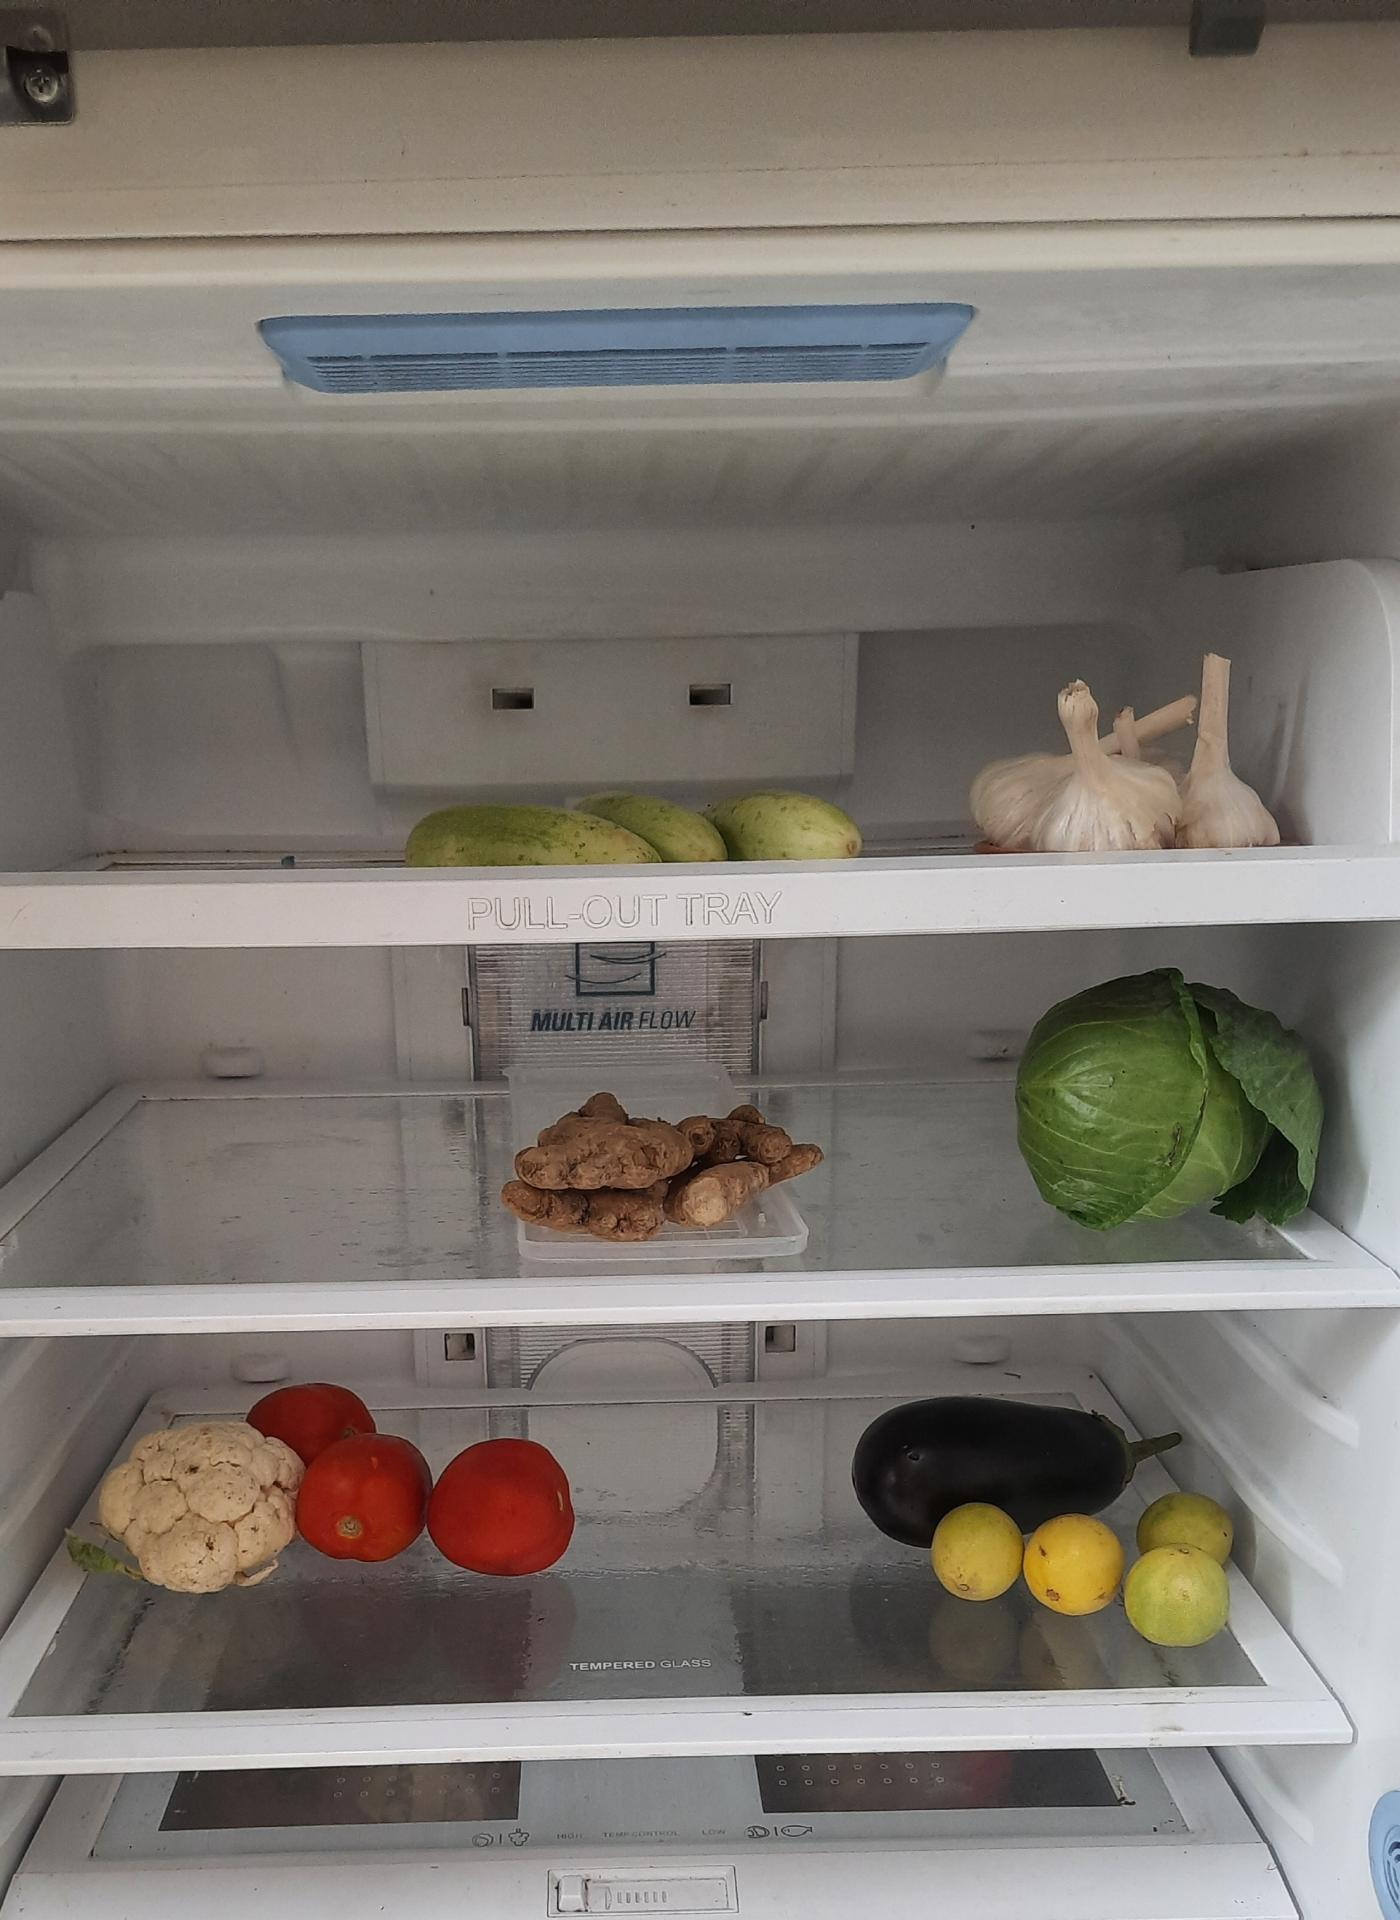brinjal: (851, 1380, 1193, 1556)
cabbage: (1021, 972, 1333, 1237)
cauliflower: (89, 1419, 298, 1589)
cucumber: (404, 778, 871, 869)
garlic: (974, 662, 1300, 859)
ginger: (499, 1090, 829, 1239)
lemon: (920, 1486, 1237, 1643)
tomato: (259, 1380, 583, 1574)
